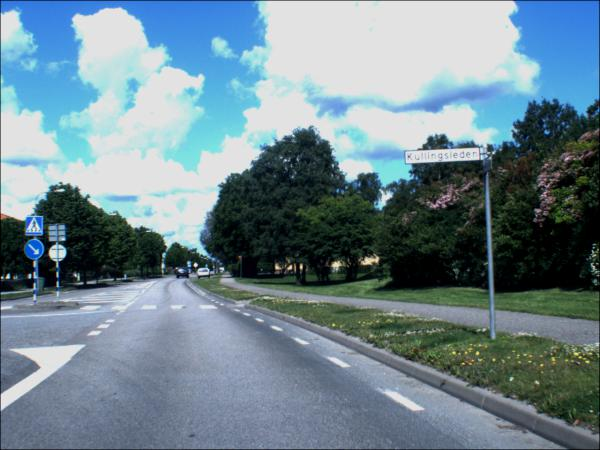PASS_RIGHT_SIDE: (26, 240, 46, 261), (189, 266, 193, 269)
PEDESTRIAN_CROSSING: (27, 217, 45, 238), (189, 262, 193, 266)
PRIORITY_ROAD: (195, 264, 200, 270)
